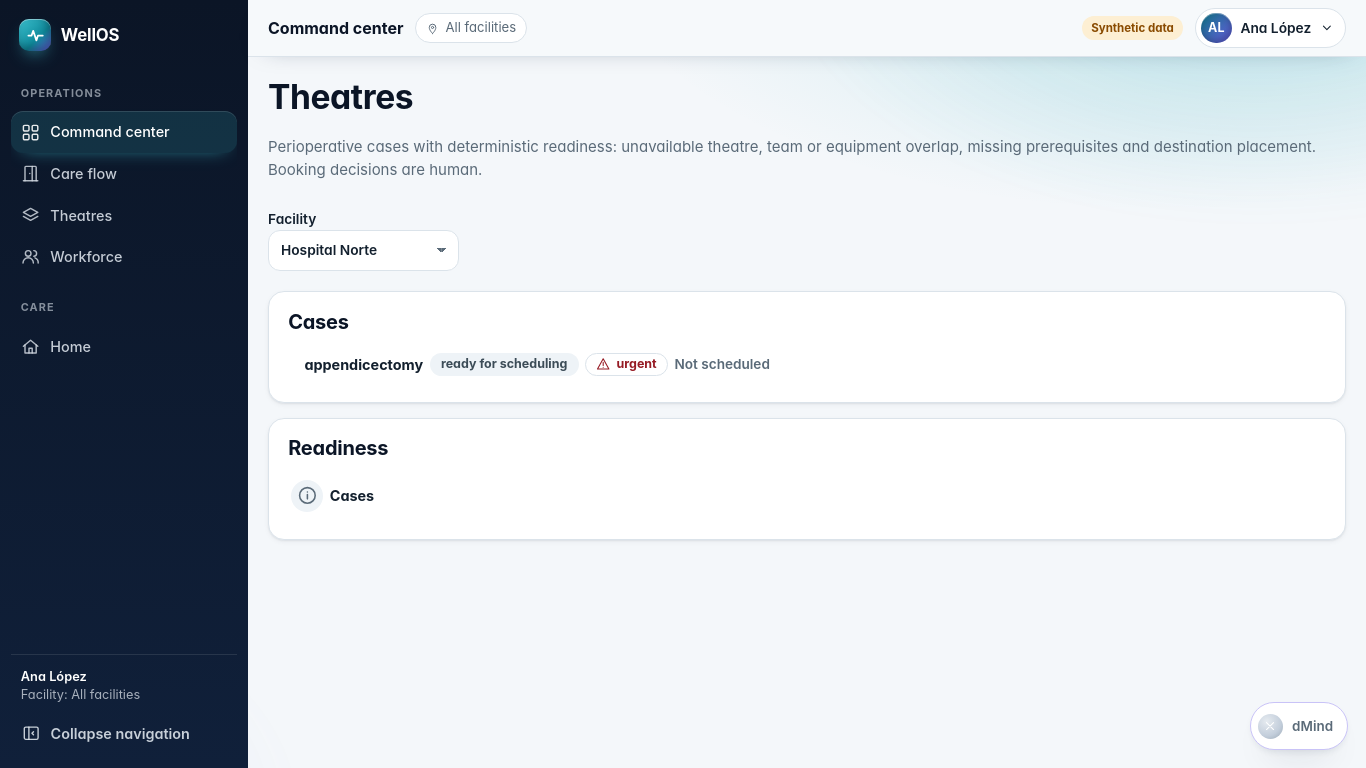
Test: /operations/theatres scheduling › lets a theatre coordinator schedule a case and refreshes readiness
Click the button "appendicectomy ready for scheduling urgent Not scheduled": (364, 364) [288,344,1326,385]
(page scrolled)
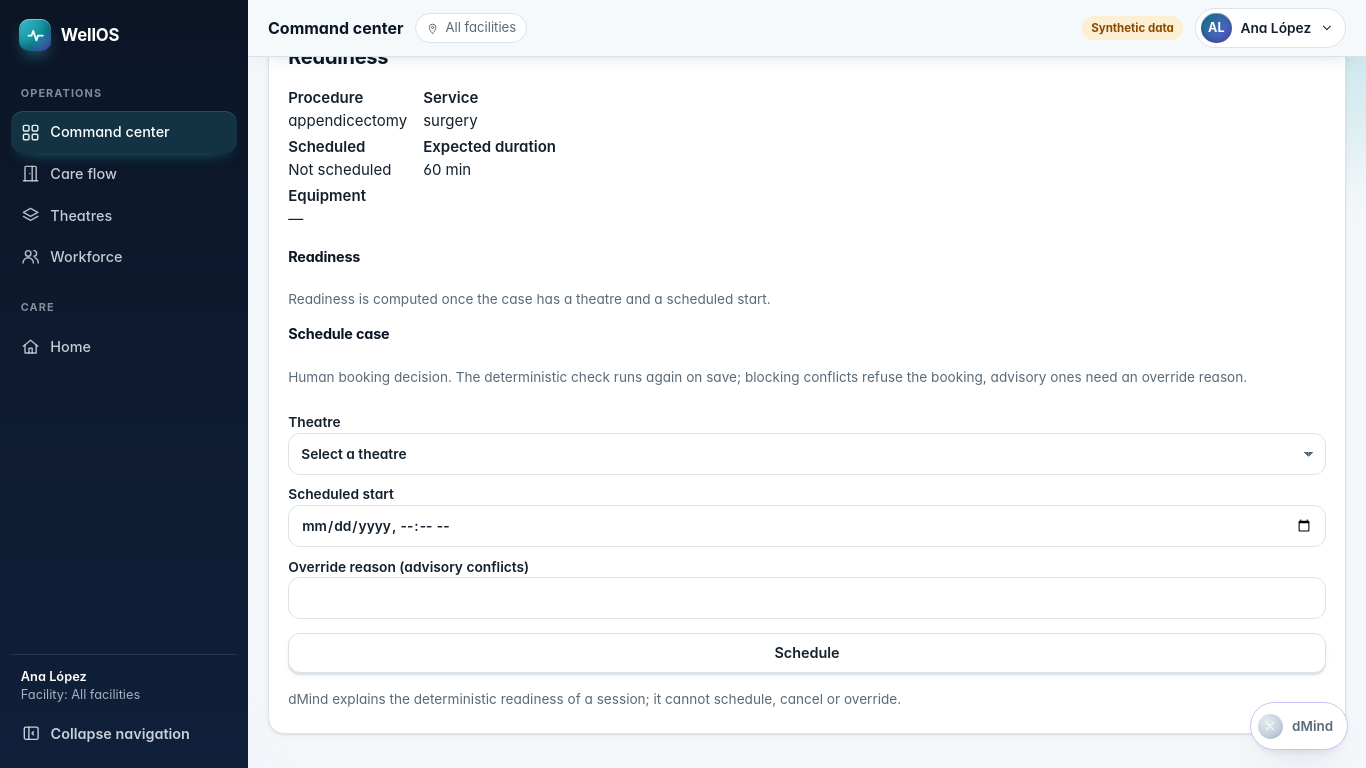
Select "Theatre 1" in the dropdown labelled "Theatre": (807, 454) [288,433,1326,475]
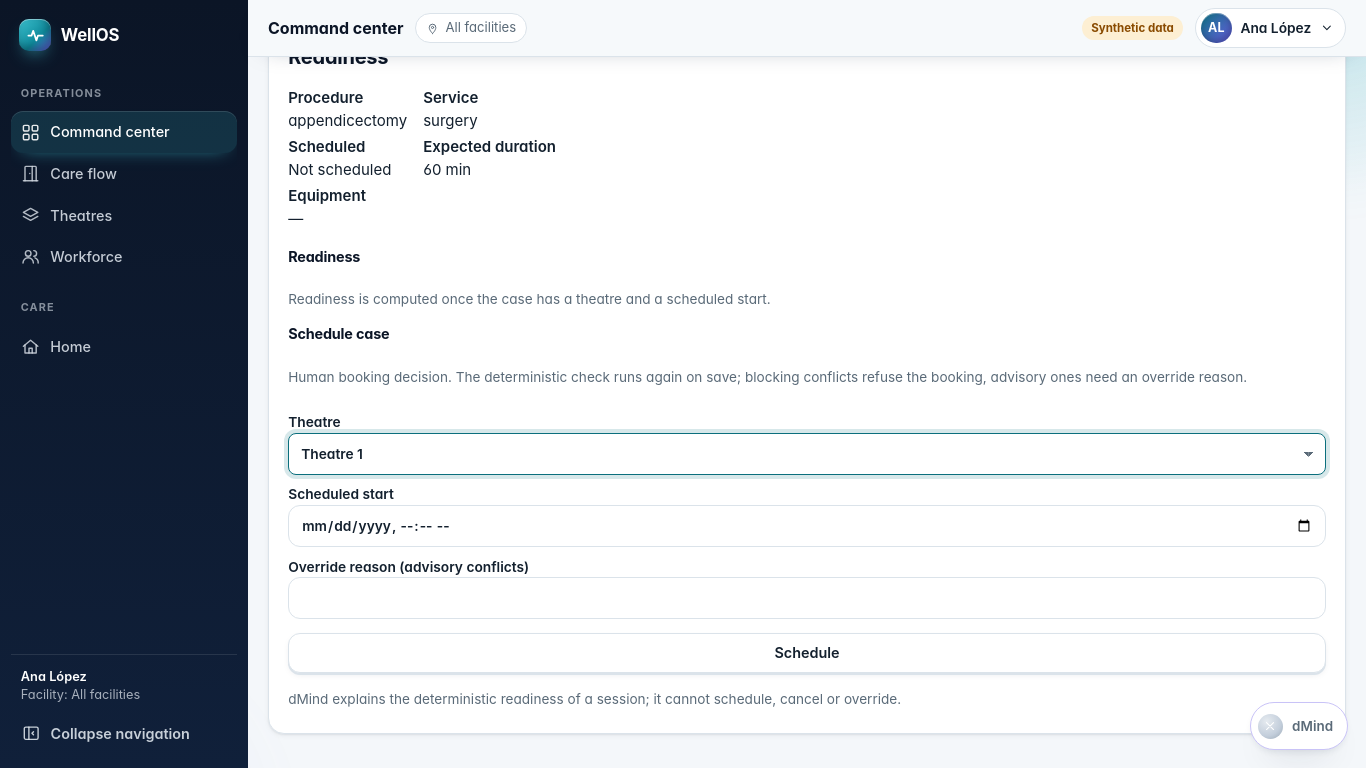
In the field labelled "Scheduled start": (807, 526) [288,505,1326,547], type "2026-10-20T09:30"
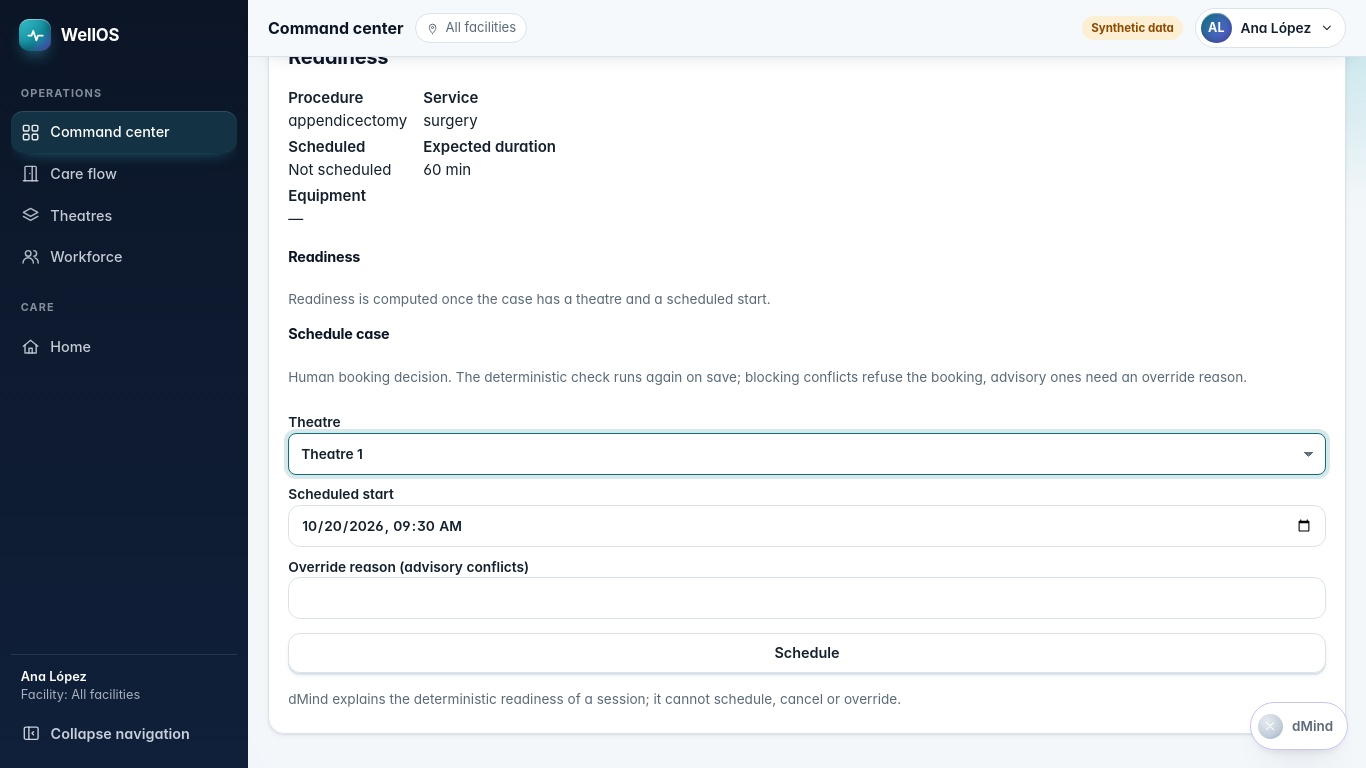
Click the button "Schedule": (807, 653) [288,633,1326,673]
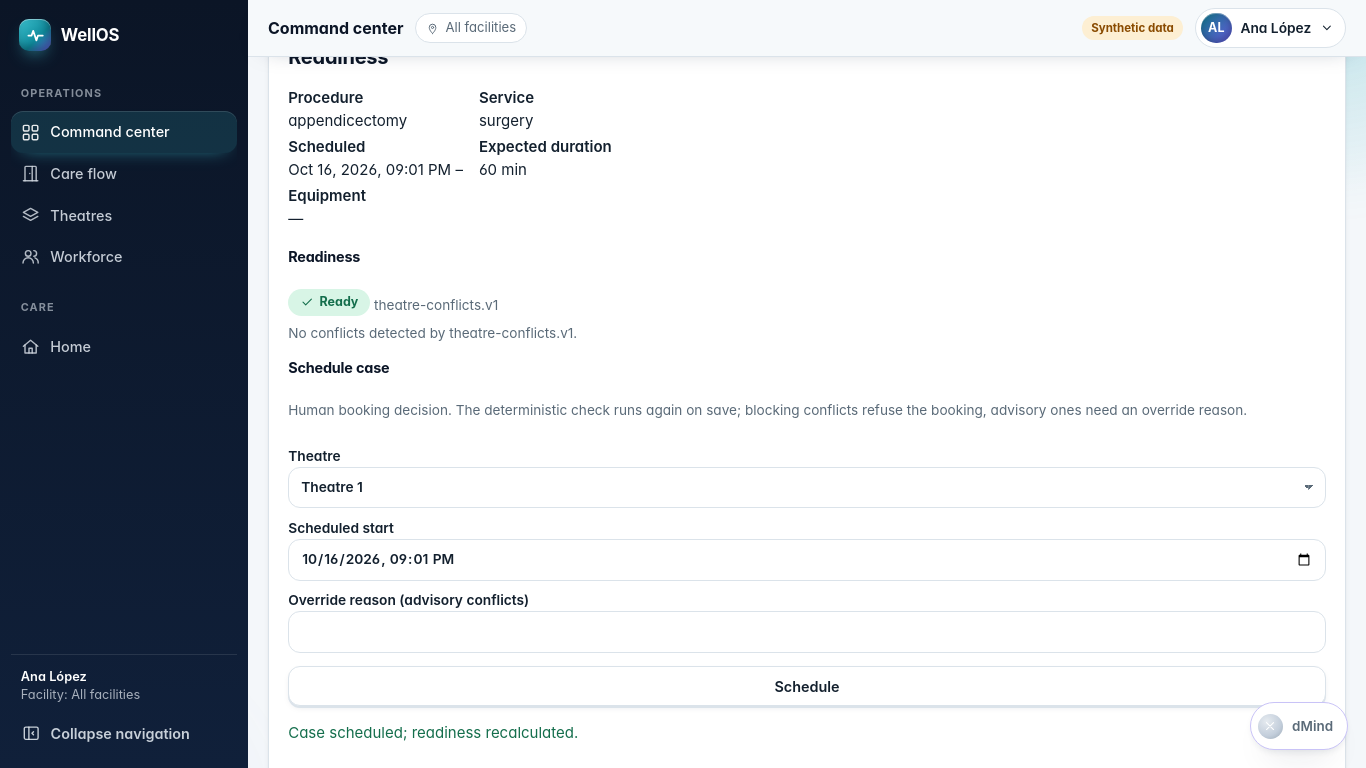
Now the element with test id "theatre-readiness" reads "Ready theatre-conflicts.v1 No conflicts detected by theatre-conflicts.v1.", box [320,294,358,309]
Now the text "Case scheduled; readiness recalculated." is shown, box [288,723,578,742]
